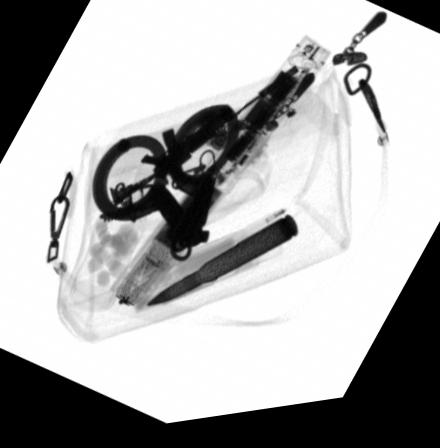Baton: (107, 42, 331, 318)
Bullet: (142, 222, 297, 310)
Gun: (107, 74, 298, 209)
HandCuffs: (91, 109, 239, 268)
